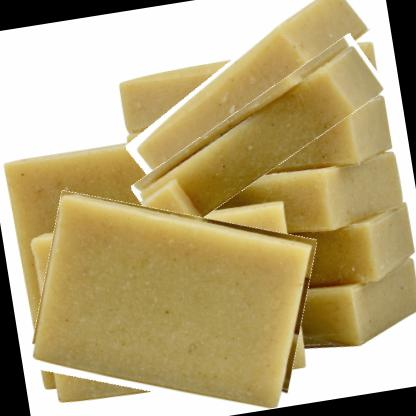soap: (15, 173, 329, 415), (106, 1, 392, 168), (116, 56, 400, 218)
